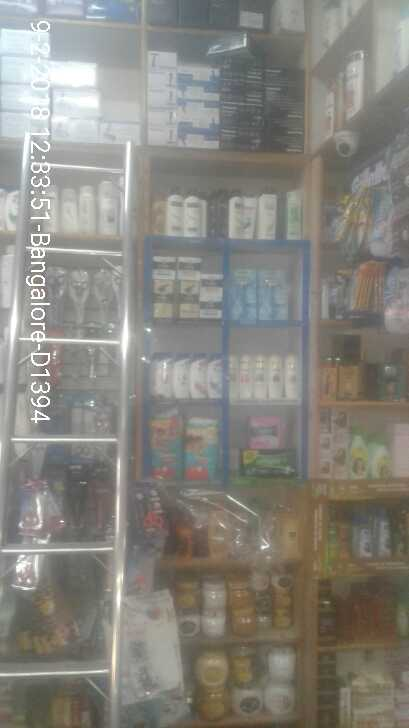gillete: (327, 159, 390, 246), (331, 260, 389, 319)
venus: (257, 269, 291, 321), (229, 268, 257, 321)
